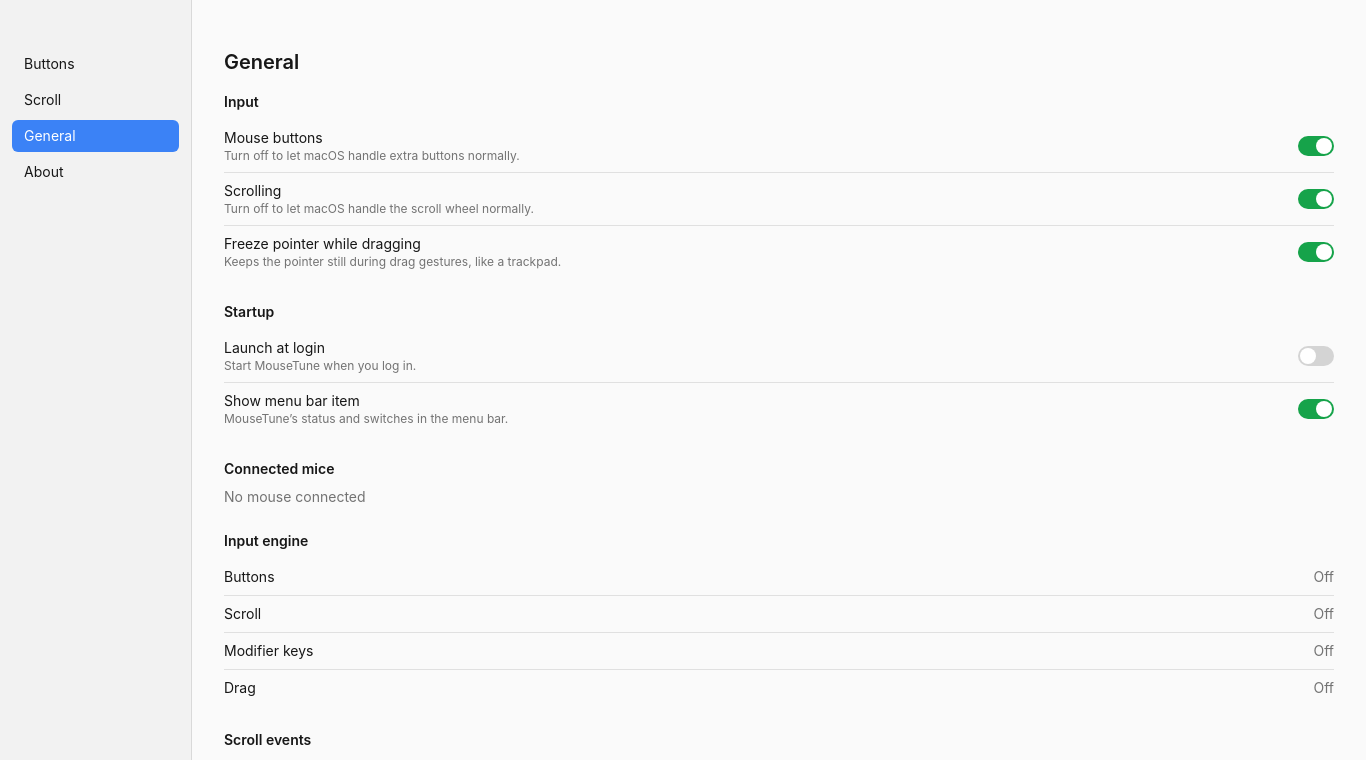
General page: startup › shows a refused change and what macOS actually has afterwards
Click the switch named "Launch at login" at {"x": 1316, "y": 356}, box [1298,346,1334,366]
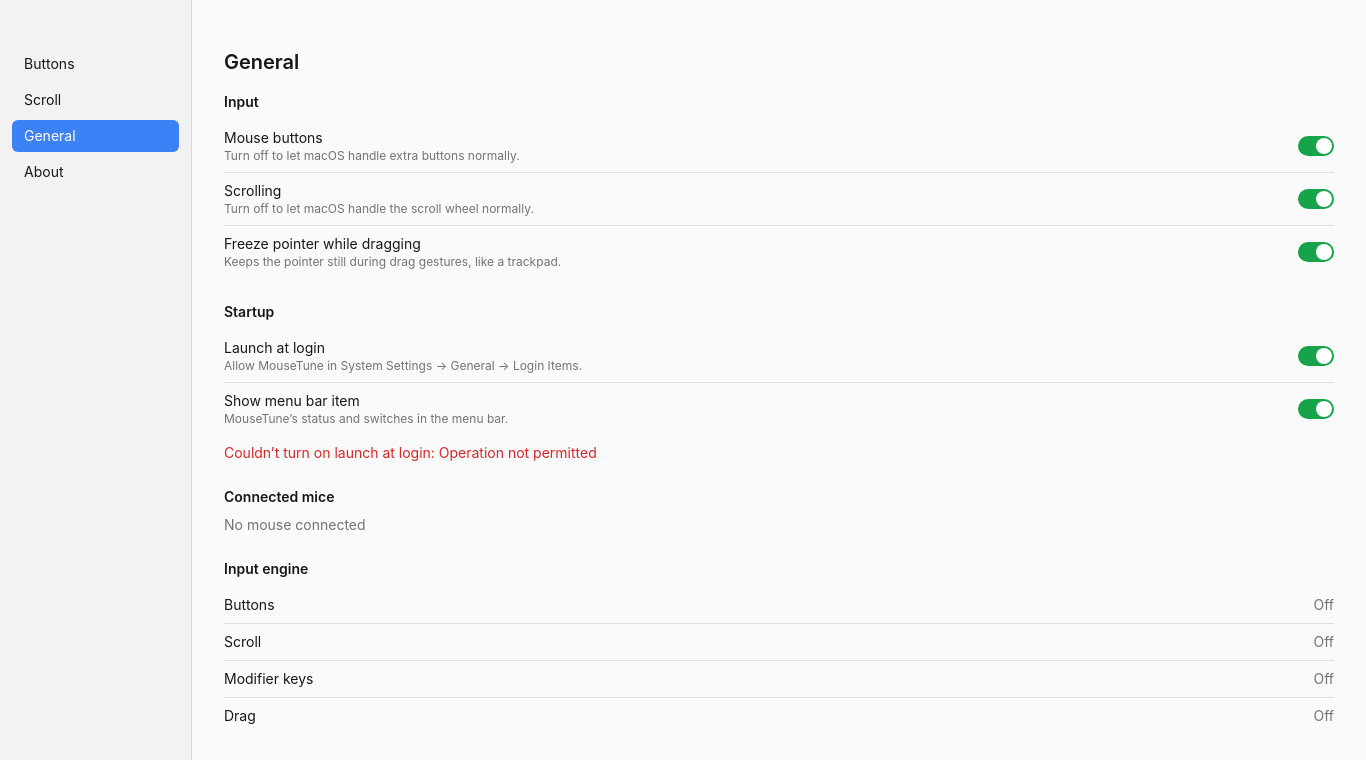
Expected: the text "Couldn’t turn on launch at login: Operation not permitted" is shown, [224,444,597,461]
Expected: the text "Allow MouseTune in System Settings → General → Login Items." is shown, [224,358,582,374]
